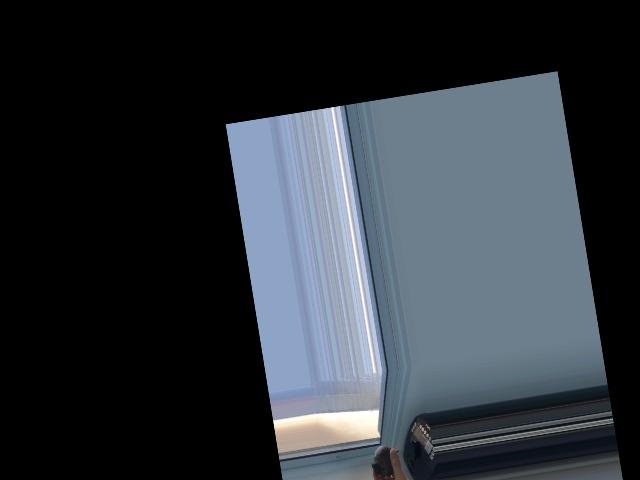beet: (368, 442, 404, 480)
